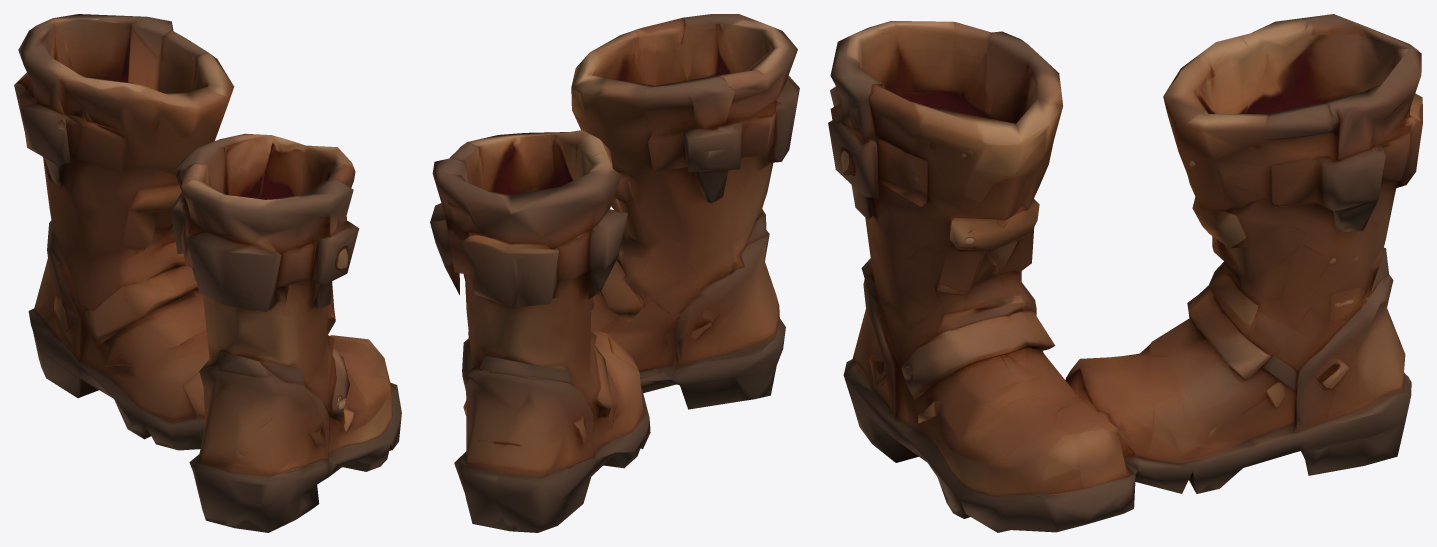
Rendered from item_boots.glb.
3 renders of one model, left to right at view 1: azimuth 30°, elevation 25°; view 2: azimuth 150°, elevation 25°; view 3: azimuth 270°, elevation 25°, orthographic. The views are drawn at different scales.
Visible parts, largest first — view 1: tripo_node_7af90e7b-55e3-4cdc-b763-6733bae97e72; view 2: tripo_node_7af90e7b-55e3-4cdc-b763-6733bae97e72; view 3: tripo_node_7af90e7b-55e3-4cdc-b763-6733bae97e72.
Part boxes in pixels (x1,y1,x2,y2): tripo_node_7af90e7b-55e3-4cdc-b763-6733bae97e72: (14, 14, 401, 532); tripo_node_7af90e7b-55e3-4cdc-b763-6733bae97e72: (430, 14, 799, 532); tripo_node_7af90e7b-55e3-4cdc-b763-6733bae97e72: (828, 14, 1422, 532).
Size of the model in its own units: 0.5998 by 0.732 by 1.
Materials: 1 (1 with a texture image).
